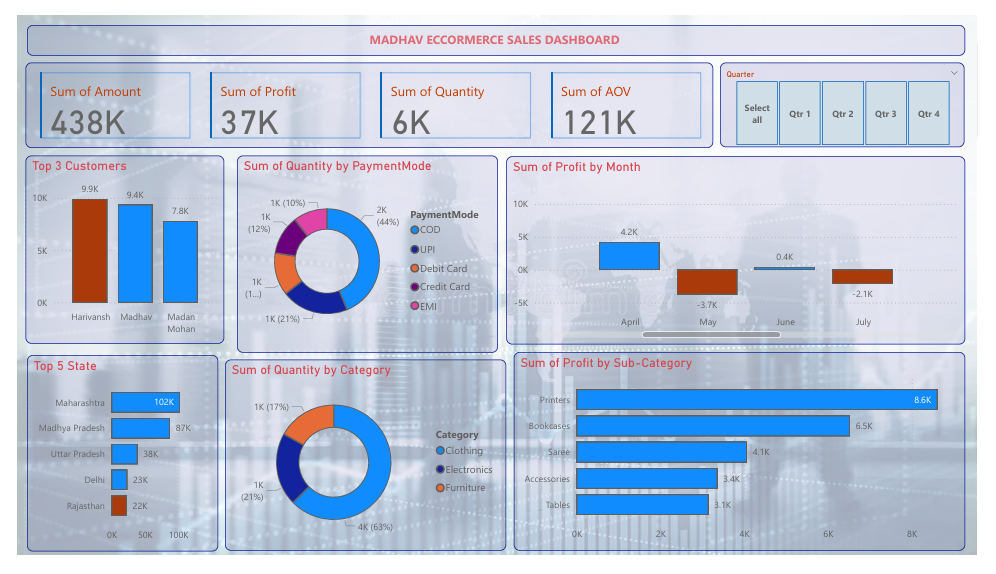

The page's visual inventory and layout, read from the dashboard file:
{"tool":"powerbi","page":{"name":"Page 1","canvas":[1280,720],"ordinal":0},"visuals":[{"type":"textbox","box":[11.5,11.5,1251.4,41.8],"z":0},{"type":"columnChart","fields":{"Category":["Orders (1).Order Date.Variation.Date Hierarchy.Month"],"Y":["Sum(Details.Profit)"]},"box":[650.9,187.2,612,250.6],"z":1000},{"type":"barChart","fields":{"Category":["Details.Sub-Category"],"Y":["Sum(Details.Profit)"]},"box":[661,447.8,601.9,265],"z":1001},{"type":"donutChart","fields":{"Category":["Details.Category"],"Y":["Sum(Details.Quantity)"]},"box":[276.5,457.9,374.4,254.9],"z":1002},{"type":"donutChart","fields":{"Category":["Details.PaymentMode"],"Y":["Sum(Details.Quantity)"]},"box":[292.3,186.5,347.7,262],"z":1003},{"type":"cardVisual","fields":{"Data":["Details.Sum of Amount","Details.Sum of Profit","Details.Sum of Quantity","Sum(Details.AOV)"]},"box":[10.1,62.2,917.2,114.2],"z":1004},{"type":"barChart","title":"Top 5 State","fields":{"Category":["Orders (1).State"],"Y":["Sum(Details.Amount)"]},"box":[11.8,451.9,255.3,262],"z":1005},{"type":"columnChart","title":"Top 3 Customers","fields":{"Category":["Orders (1).CustomerName"],"Y":["Sum(Details.Amount)"]},"box":[10.1,186.5,265.4,250.3],"z":1006},{"type":"slicer","fields":{"Values":["Orders (1).Order Date.Variation.Date Hierarchy.Quarter"]},"box":[936,62,326,113],"z":1007}]}

Visuals, with their boxes in screenshot pixels (x1, y1, x2, y2), scaled from the page's 1280x720 canvas onto the 996x574 screenshot:
textbox: (left=9, top=9, right=983, bottom=42)
columnChart - Orders (1).Order Date.Variation.Date Hierarchy.Month x Sum(Details.Profit): (left=506, top=149, right=983, bottom=349)
barChart - Details.Sub-Category x Sum(Details.Profit): (left=514, top=357, right=983, bottom=568)
donutChart - Details.Category x Sum(Details.Quantity): (left=215, top=365, right=506, bottom=568)
donutChart - Details.PaymentMode x Sum(Details.Quantity): (left=227, top=149, right=498, bottom=358)
cardVisual - Details.Sum of Amount x Details.Sum of Profit: (left=8, top=50, right=722, bottom=141)
"Top 5 State" barChart: (left=9, top=360, right=208, bottom=569)
"Top 3 Customers" columnChart: (left=8, top=149, right=214, bottom=348)
slicer - Orders (1).Order Date.Variation.Date Hierarchy.Quarter: (left=728, top=49, right=982, bottom=140)
